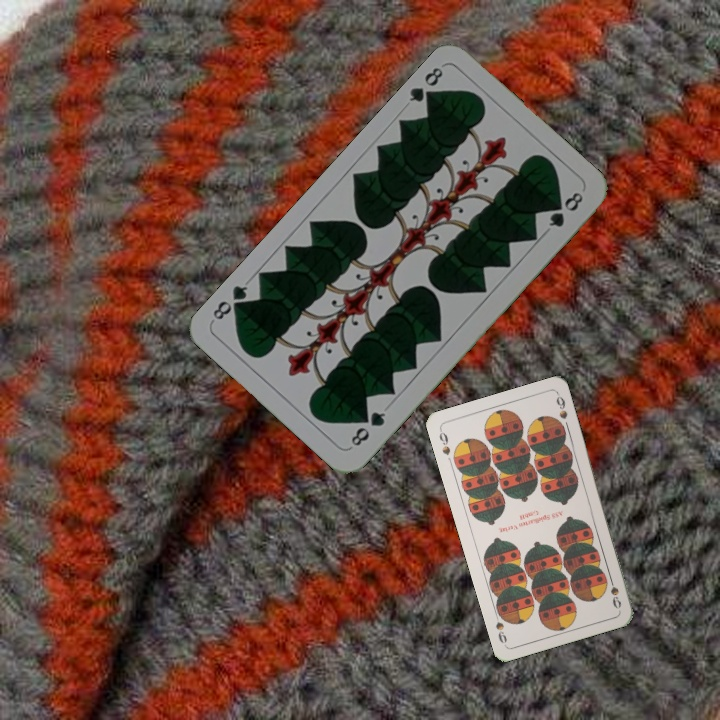G8: (404, 63, 446, 108), (346, 407, 389, 449)
S9: (605, 571, 624, 611), (435, 425, 453, 458)
